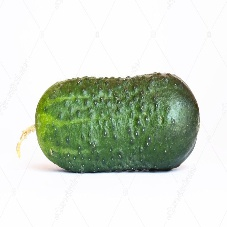cucumber: (35, 71, 197, 172)
